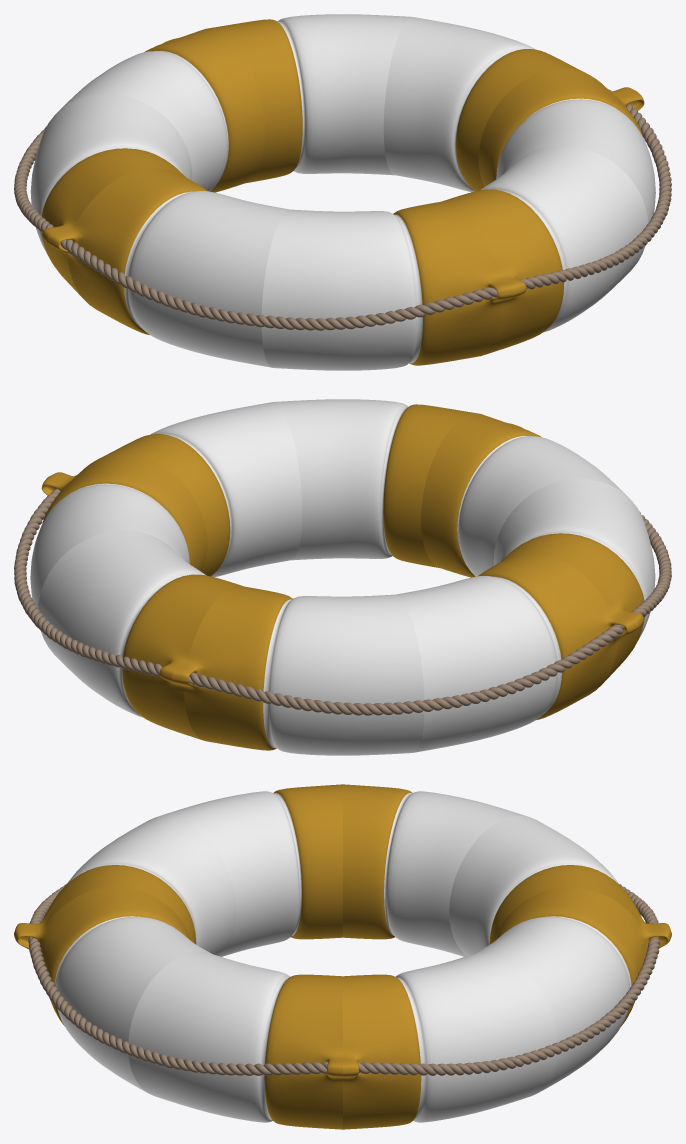
File: BUOY TO MOVE.fbx
3 views of the same model, one above another, from view 1: azimuth 30°, elevation 25°; view 2: azimuth 150°, elevation 25°; view 3: azimuth 270°, elevation 25° (orthographic). The views are drawn at different scales.
Parts seen in each view (by area): view 1: Torus.001; view 2: Torus.001; view 3: Torus.001.
Part boxes in pixels (bbox=[...]): Torus.001: bbox=[14, 14, 671, 370]; Torus.001: bbox=[14, 399, 671, 755]; Torus.001: bbox=[14, 784, 671, 1129].
Bounding box in the file's own units: 20.7 × 88.69 × 88.69.
